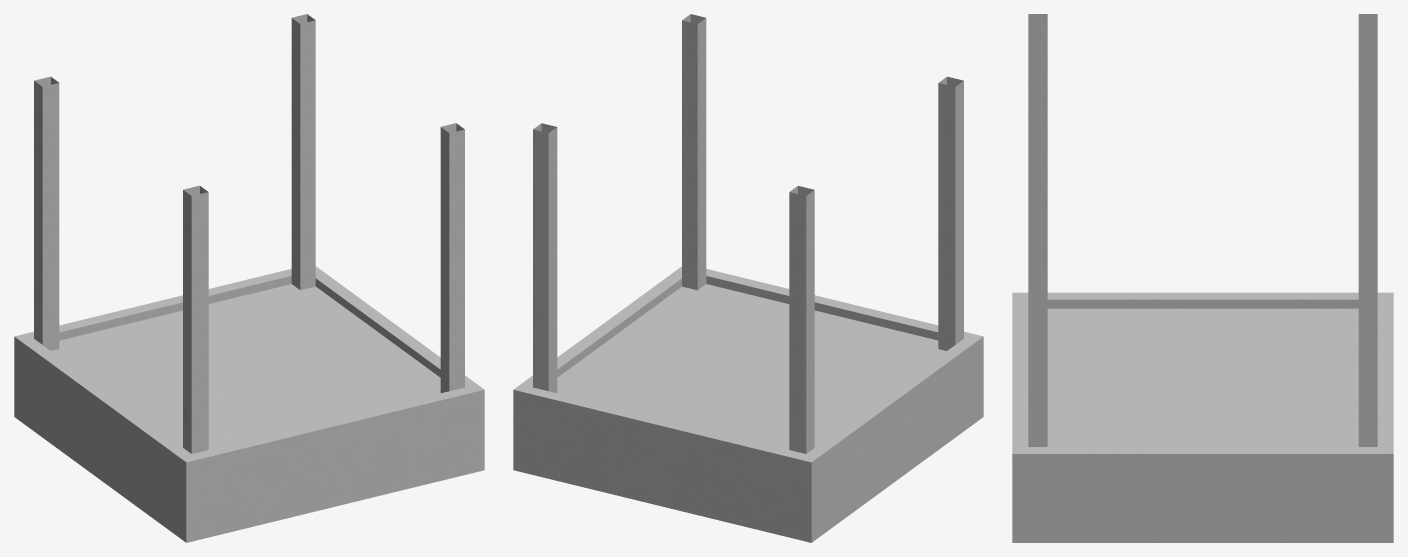
Rendered from SM_square_ceiling_lamp_a_short.fbx.
3 renders of one model, left to right at view 1: azimuth 30°, elevation 25°; view 2: azimuth 150°, elevation 25°; view 3: azimuth 270°, elevation 25°, orthographic. The views are drawn at different scales.
Visible parts, largest first — view 1: pCube164; view 2: pCube164; view 3: pCube164.
Part boxes in pixels (x1,y1,x2,y2): pCube164: (14, 14, 484, 542); pCube164: (513, 14, 983, 542); pCube164: (1012, 14, 1393, 542).
Size of the model in its own units: 1 by 1.08 by 1.
